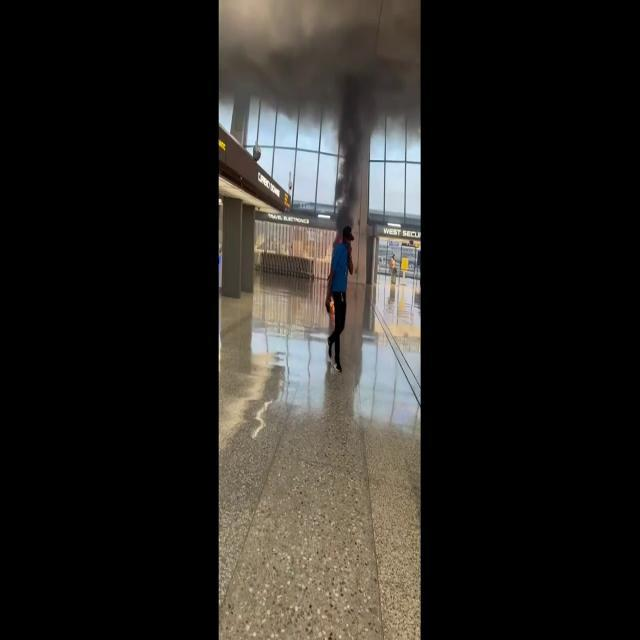Smoke: (216, 0, 420, 116), (322, 71, 386, 219)
